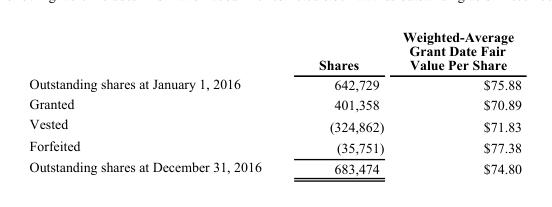table: (28, 28, 521, 175)
table column: (28, 28, 289, 175), (392, 28, 521, 175), (289, 28, 392, 175)
table column header: (28, 28, 521, 73)
table row: (28, 28, 521, 73), (28, 135, 521, 157), (28, 73, 521, 94), (28, 114, 521, 135), (28, 94, 521, 114), (28, 157, 521, 175)
